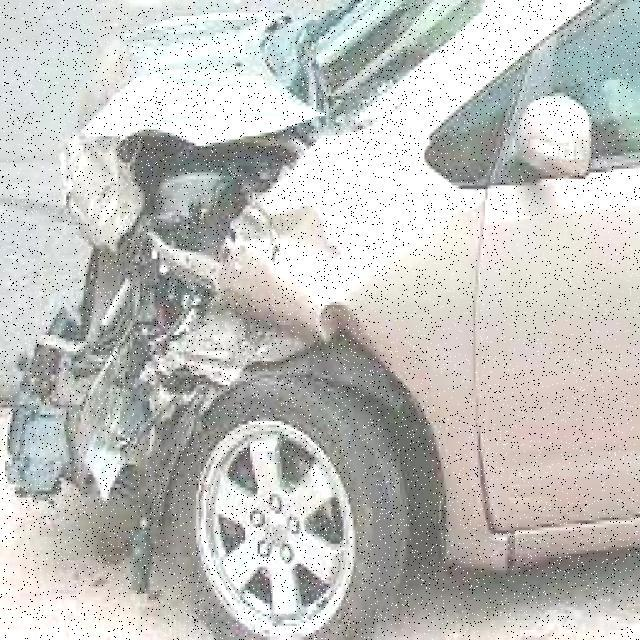car damage: (2, 91, 355, 598)
